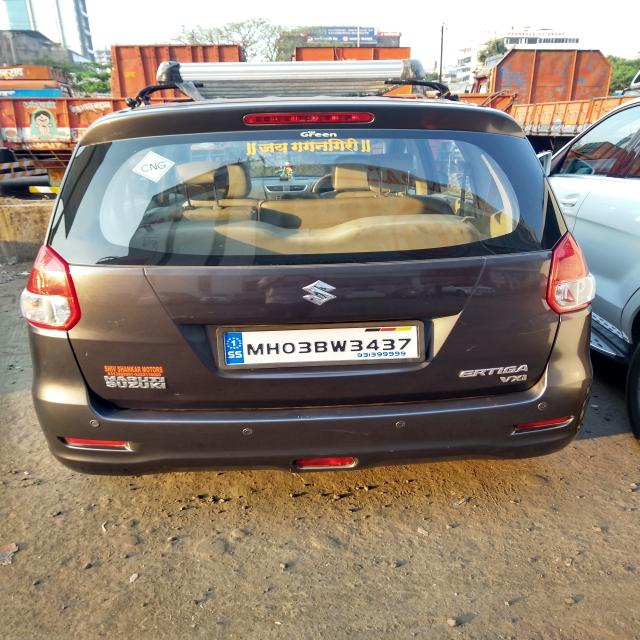Number-Plate: (222, 329, 422, 365)
